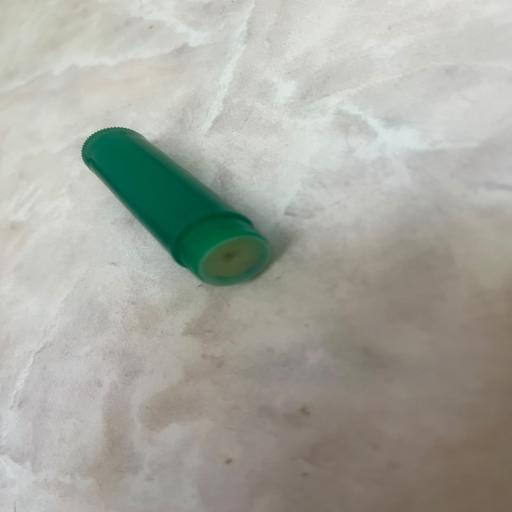HDPE: (35, 106, 416, 384)
